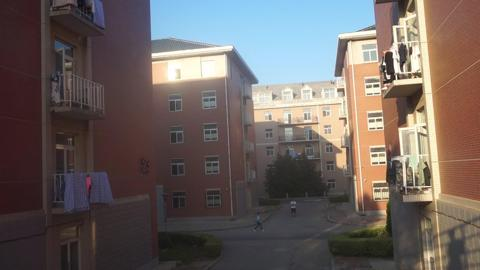UAV: (242, 77, 248, 84)
